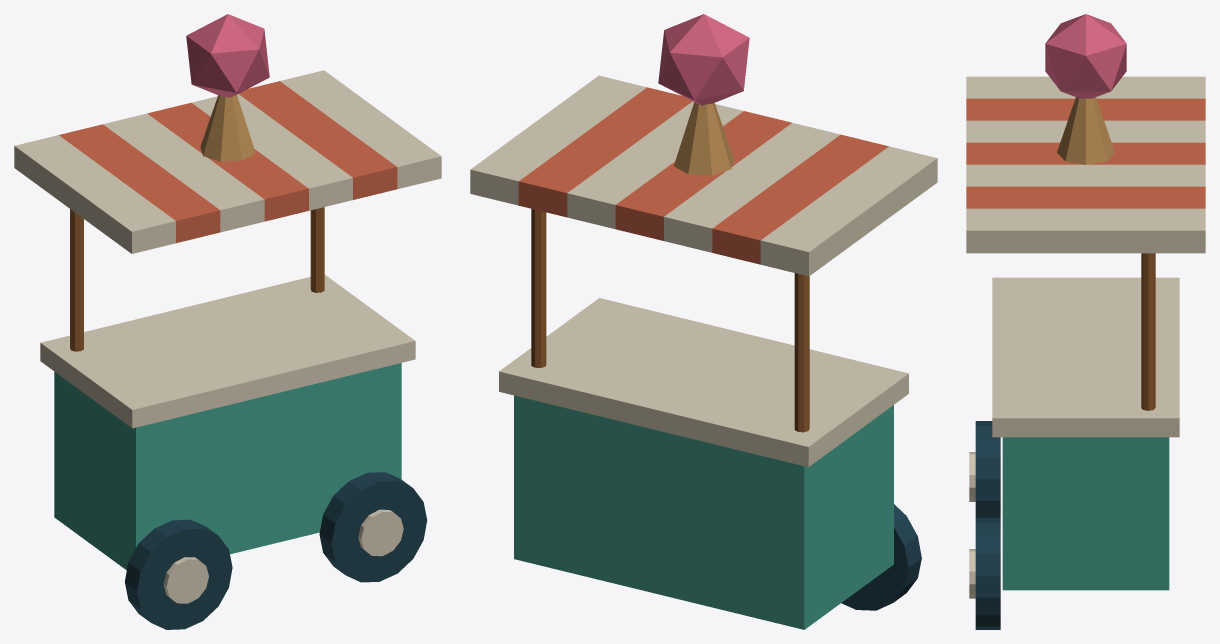
Rendered from icecream_cart.glb.
3 renders of one model, left to right at view 1: azimuth 30°, elevation 25°; view 2: azimuth 150°, elevation 25°; view 3: azimuth 270°, elevation 25°, orthographic. The views are drawn at different scales.
Parts seen in each view (by area): view 1: icecream_cart_pc; view 2: icecream_cart_pc; view 3: icecream_cart_pc.
Boxes of the visible parts, x1=… form: icecream_cart_pc: x1=14, y1=14, x2=441, y2=629; icecream_cart_pc: x1=470, y1=14, x2=937, y2=629; icecream_cart_pc: x1=966, y1=14, x2=1205, y2=629.
Size of the model in its own units: 1.75 by 2.98 by 1.15.
